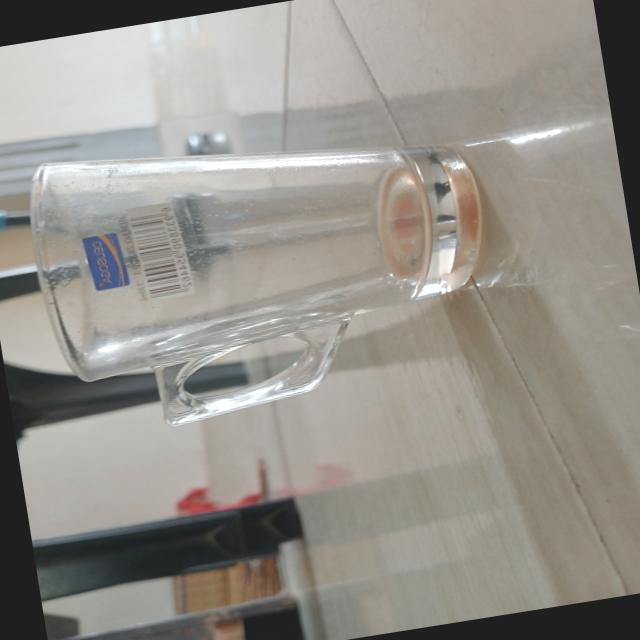glass-VX4N: (21, 94, 508, 443)
